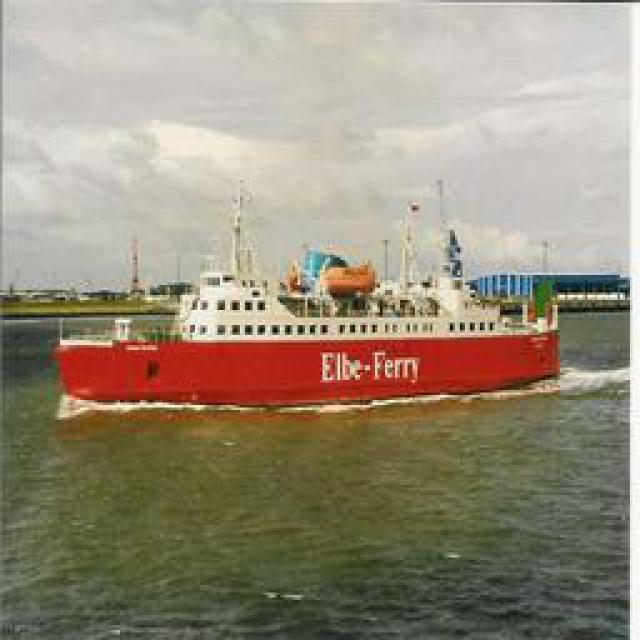Ship: (51, 207, 564, 410)
